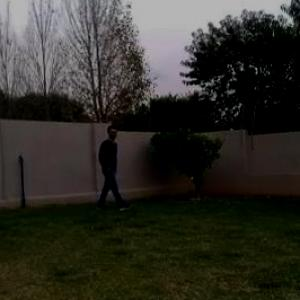follow: (98, 125, 121, 217)
